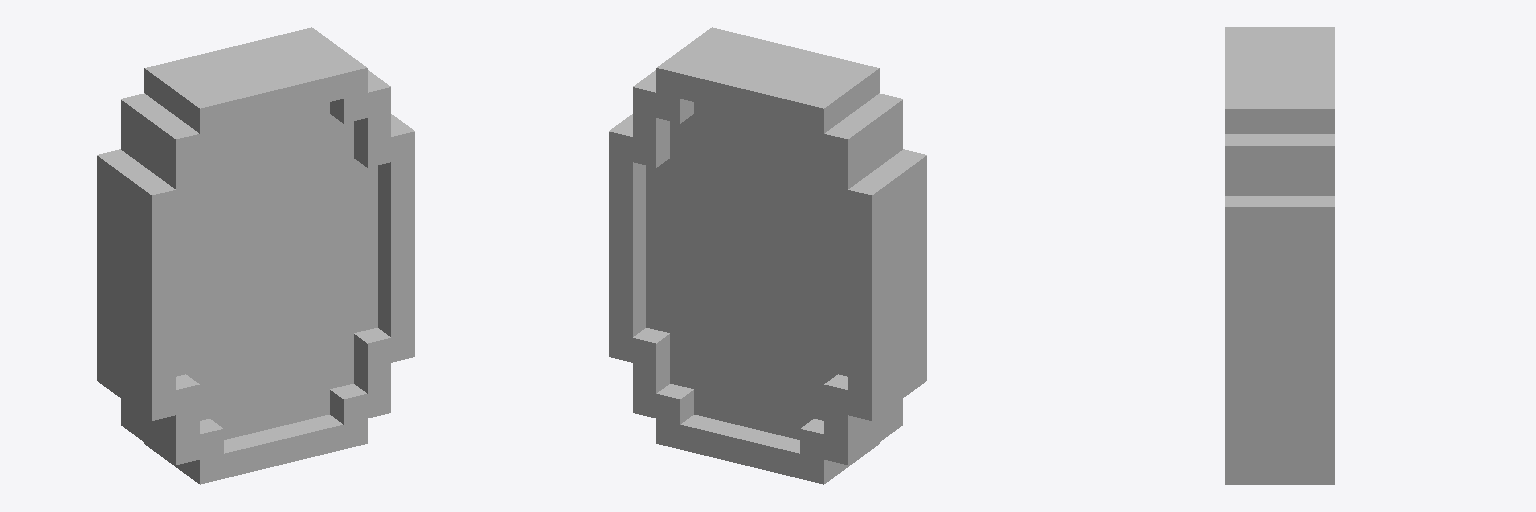
The model's file is coin.obj.
3 renders of one model, left to right at view 1: azimuth 30°, elevation 25°; view 2: azimuth 150°, elevation 25°; view 3: azimuth 270°, elevation 25°, orthographic.
Visible parts, largest first — view 1: Untitled; view 2: Untitled; view 3: Untitled.
Boxes of the visible parts, <box> form: Untitled: <box>97,27,414,484</box>; Untitled: <box>609,27,926,484</box>; Untitled: <box>1225,27,1334,484</box>.
Bounding box in the file's own units: 1.1 × 1.5 × 0.4.